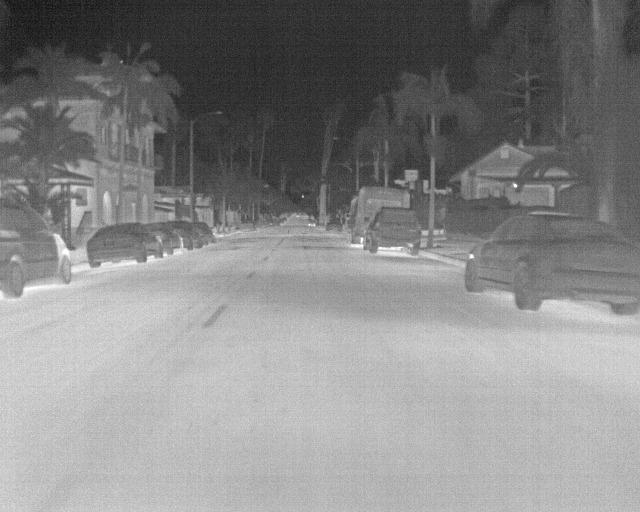car: (464, 212, 639, 315), (0, 203, 74, 298), (86, 221, 162, 267), (362, 205, 422, 256), (146, 223, 178, 255), (169, 219, 198, 251), (194, 222, 214, 249), (326, 218, 341, 233)
